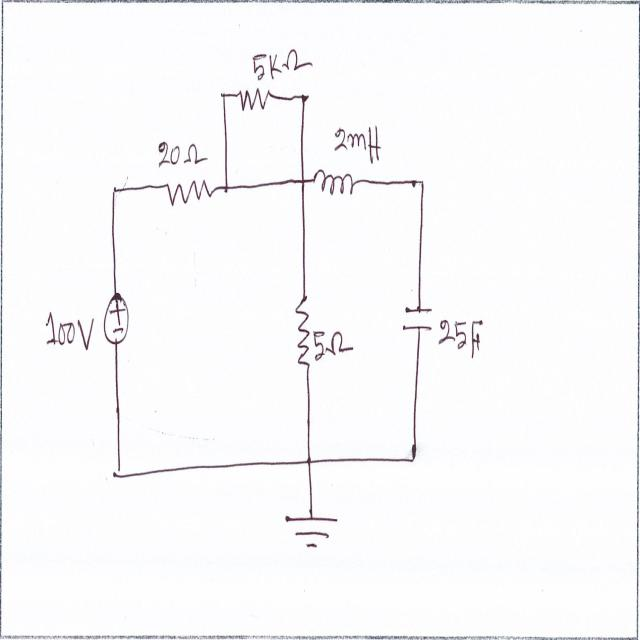capacitor: (399, 295, 436, 345)
ground: (281, 505, 342, 558)
inductor: (308, 156, 356, 207)
resistor: (162, 172, 217, 212), (293, 280, 313, 384), (234, 79, 274, 125)
voltage_source: (100, 279, 131, 357)
